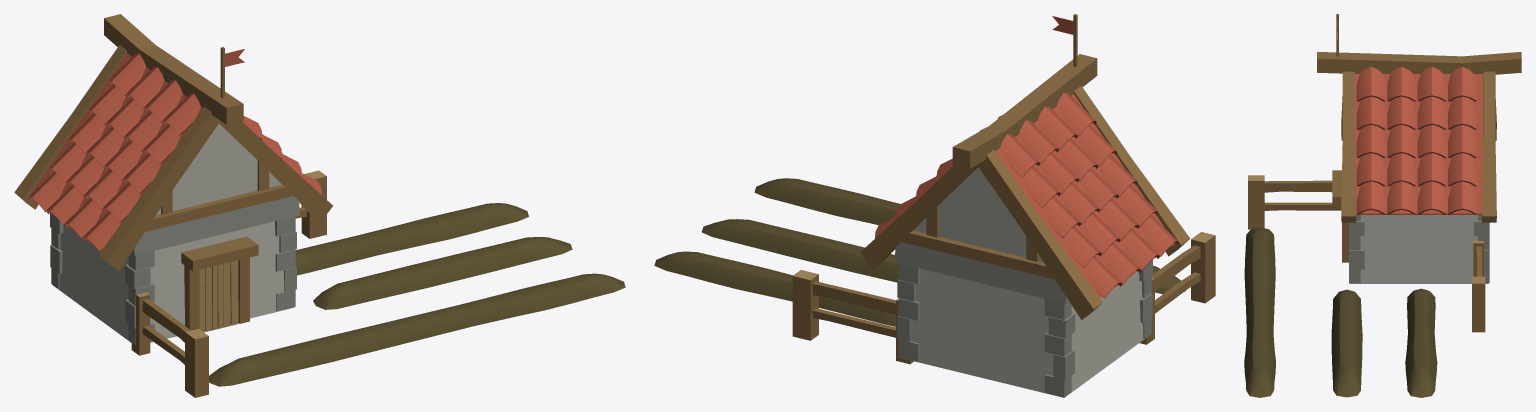
The model's file is Small Farm.glb.
3 views of the same model, side by side, from view 1: azimuth 30°, elevation 25°; view 2: azimuth 150°, elevation 25°; view 3: azimuth 270°, elevation 25° (orthographic). The views are drawn at different scales.
Parts seen in each view (by area): view 1: Small Farm; view 2: Small Farm; view 3: Small Farm.
Part boxes in pixels (x1,y1,x2,y2): Small Farm: [14, 14, 625, 397]; Small Farm: [654, 14, 1215, 397]; Small Farm: [1244, 14, 1521, 397].
Size of the model in its own units: 1.81 by 1.07 by 1.11.
